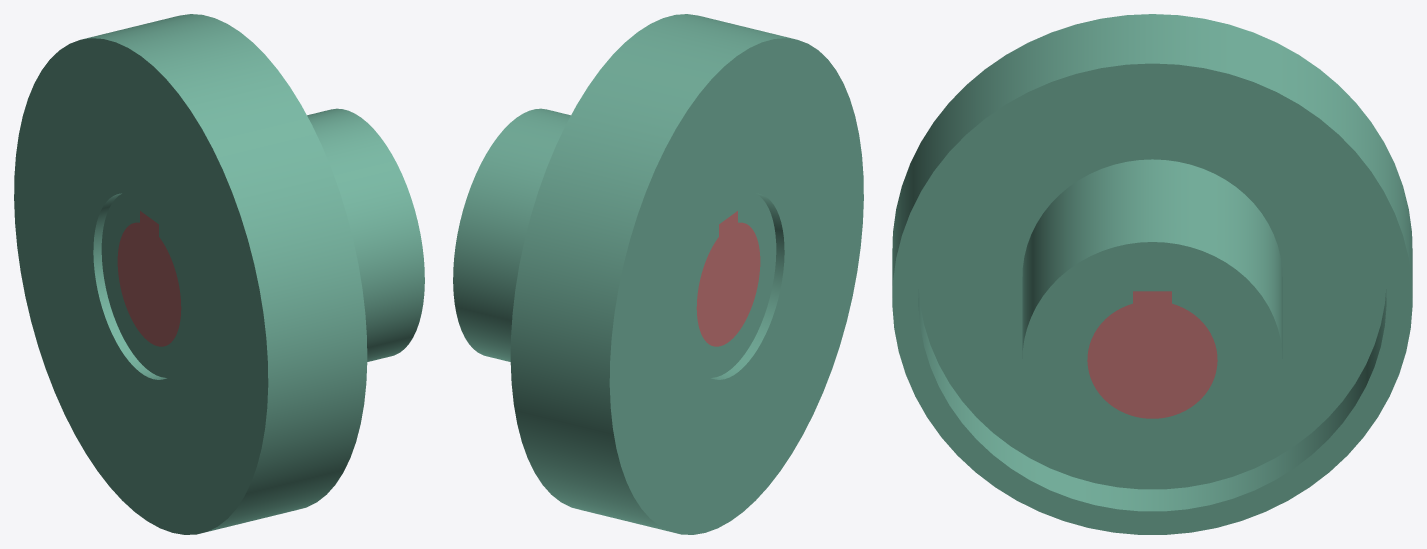
Rendered from step_10.glb.
3 renders of one model, left to right at view 1: azimuth 30°, elevation 25°; view 2: azimuth 150°, elevation 25°; view 3: azimuth 270°, elevation 25°, orthographic. The views are drawn at different scales.
Visible parts, largest first — view 1: part__flange B (recess), removed__flange B (recess); view 2: part__flange B (recess), removed__flange B (recess); view 3: part__flange B (recess), removed__flange B (recess).
Boxes of the visible parts, x1,y1,x2,y2 form: part__flange B (recess): [14, 14, 424, 534]; removed__flange B (recess): [117, 211, 181, 346]; part__flange B (recess): [453, 14, 863, 534]; removed__flange B (recess): [696, 211, 760, 346]; part__flange B (recess): [892, 14, 1412, 534]; removed__flange B (recess): [1087, 291, 1217, 418].
Size of the model in its own units: 80 by 160 by 160.
